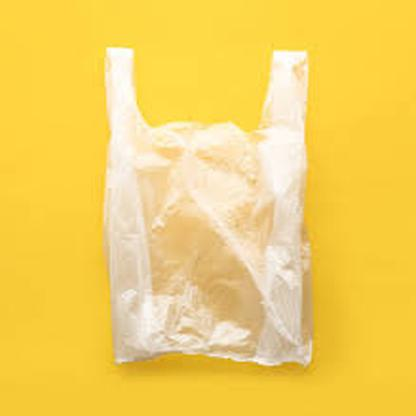plastic bag: (101, 43, 311, 364)
